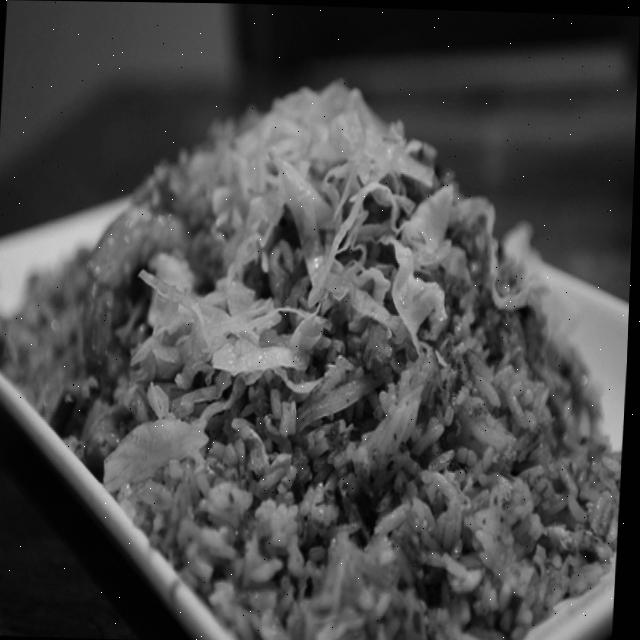米饭主食: (0, 65, 633, 629)
